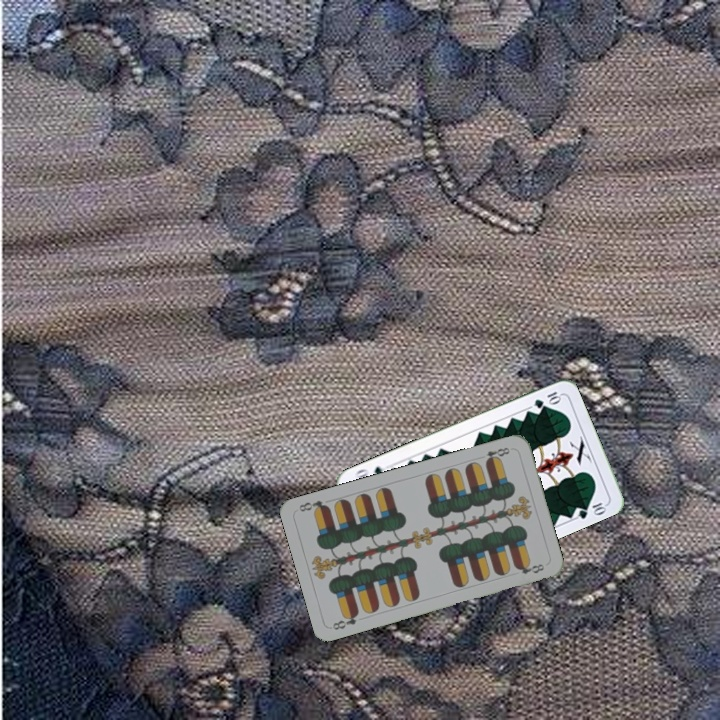E8: (328, 608, 361, 633), (481, 443, 512, 466)
G10: (530, 387, 564, 411)
